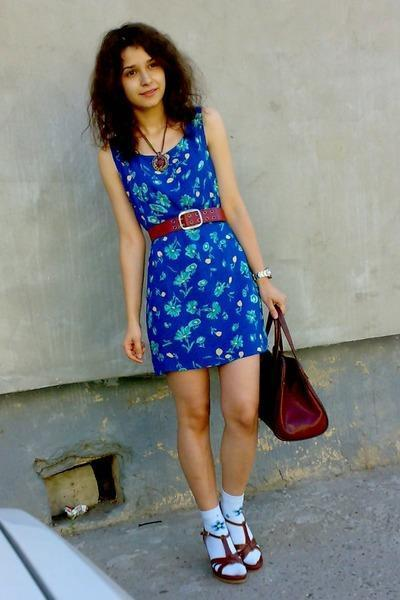bag: (259, 303, 328, 441)
dress: (117, 132, 274, 371)
shoe: (210, 523, 260, 584)
